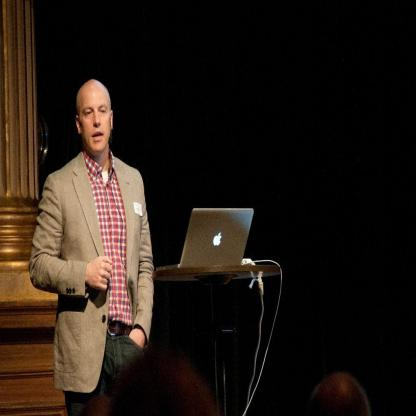board: (156, 206, 255, 271)
